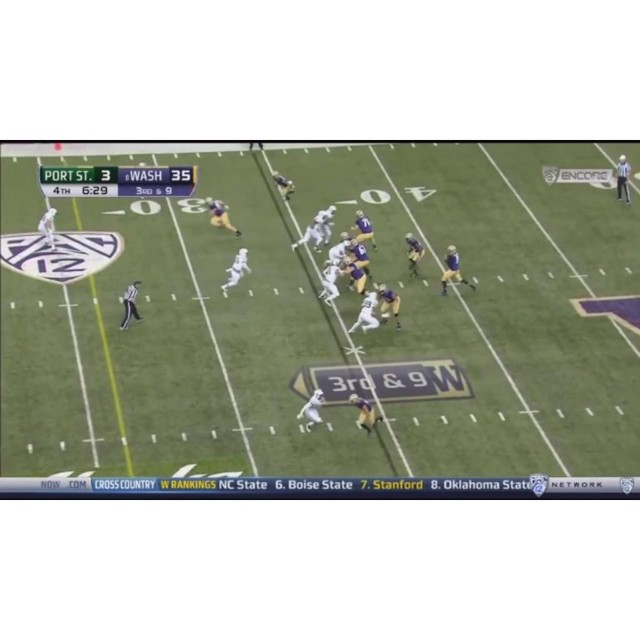american-football-player: (291, 206, 337, 253), (439, 245, 477, 297), (348, 289, 381, 337), (220, 247, 251, 297), (349, 393, 384, 437), (205, 198, 242, 238), (317, 255, 346, 305), (297, 388, 329, 433), (375, 282, 402, 332), (352, 210, 379, 251), (344, 256, 369, 296), (403, 232, 425, 277), (37, 206, 59, 250), (351, 239, 372, 277), (272, 172, 295, 203)
referee: (119, 279, 144, 331), (612, 153, 635, 205)
